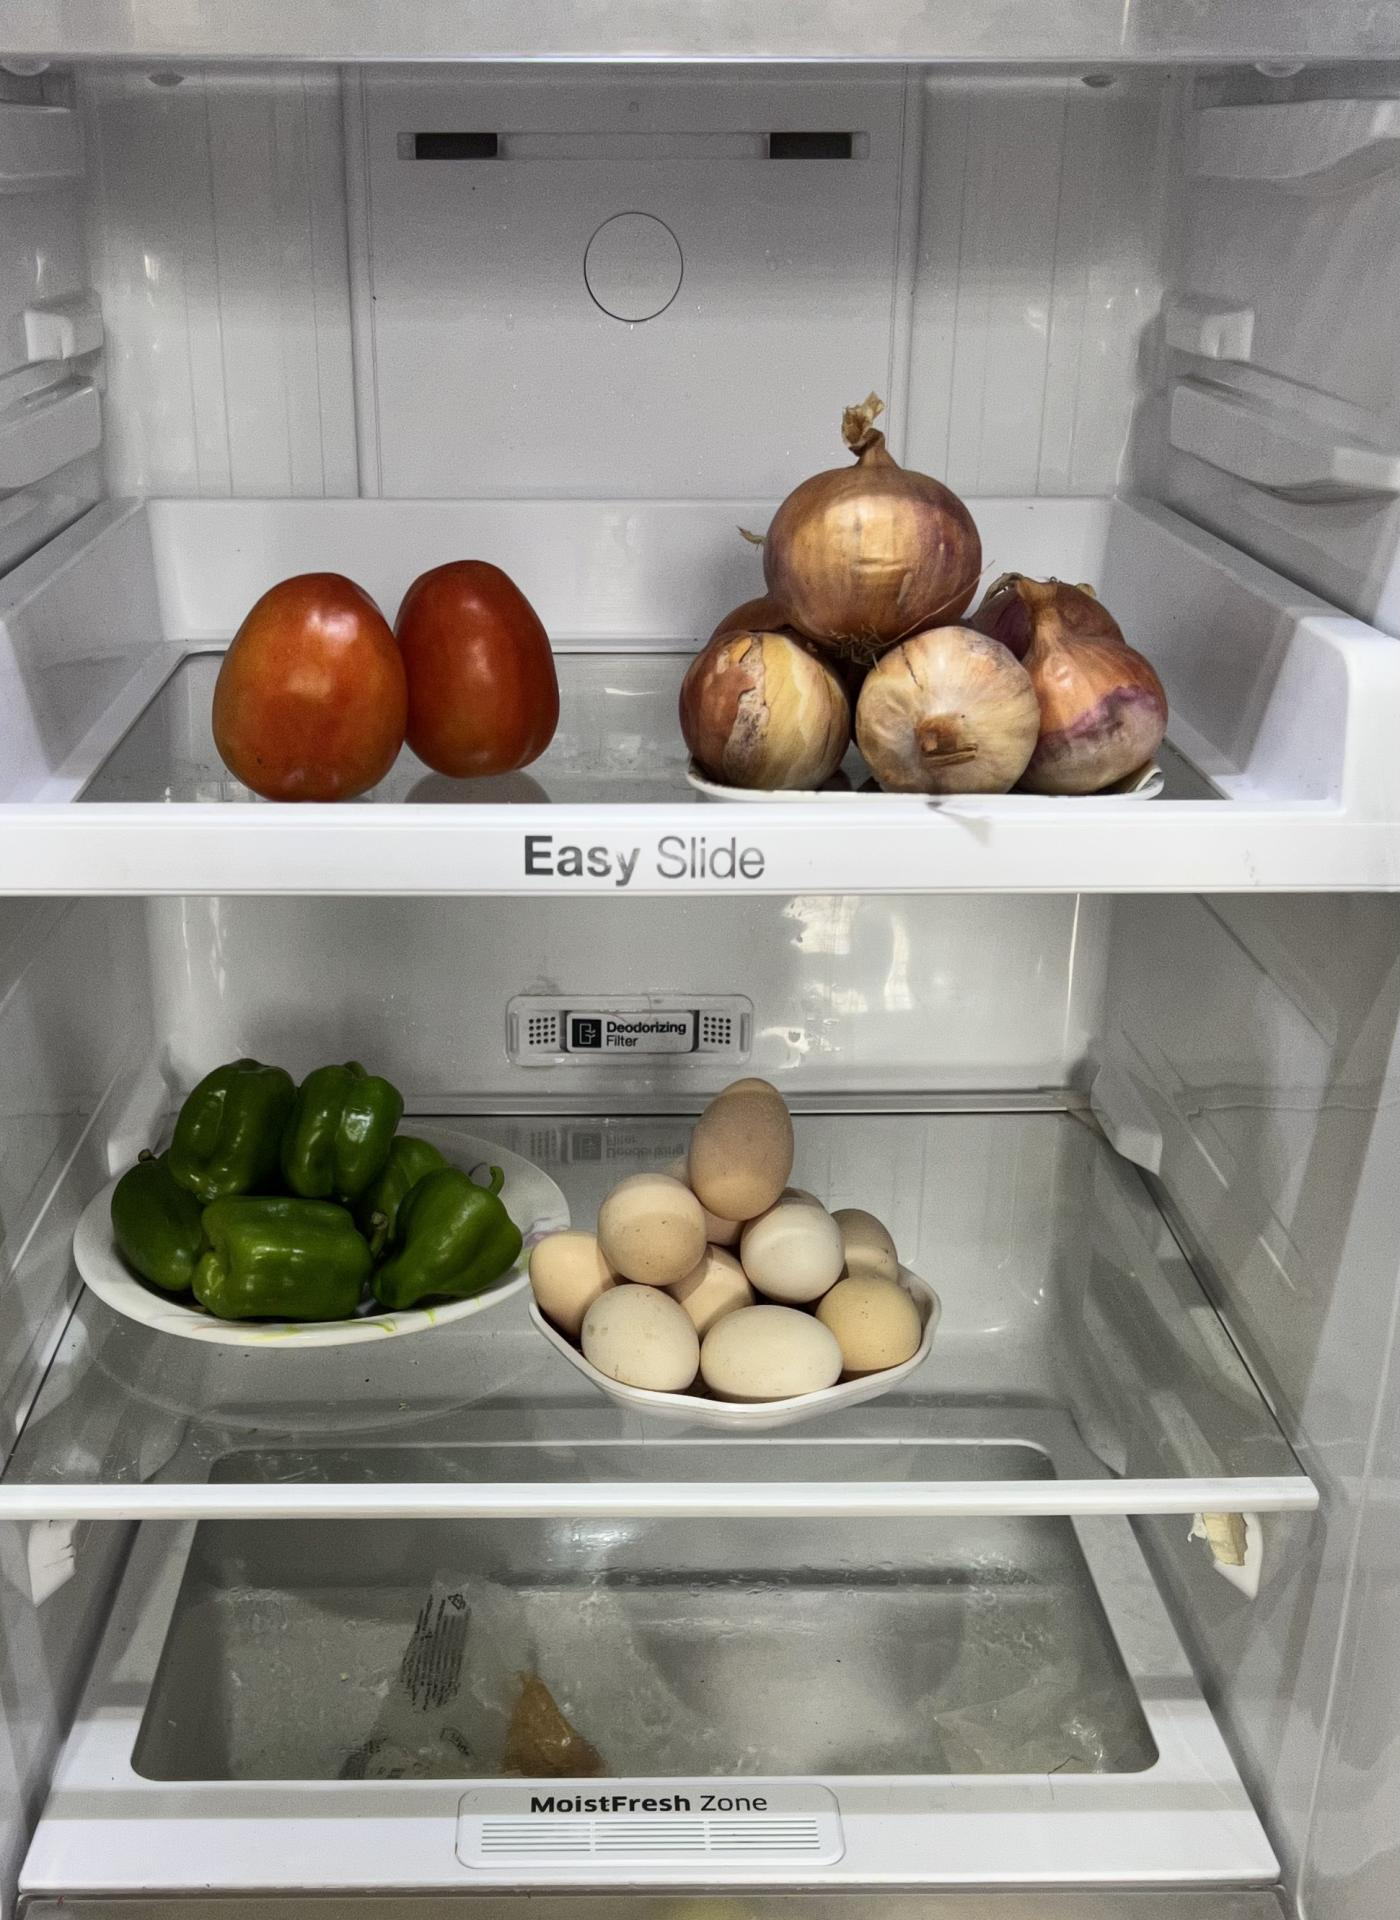capsicum: (103, 1039, 517, 1333)
egg: (538, 1106, 918, 1404)
onion: (668, 446, 1158, 798)
tomato: (200, 532, 586, 811)
